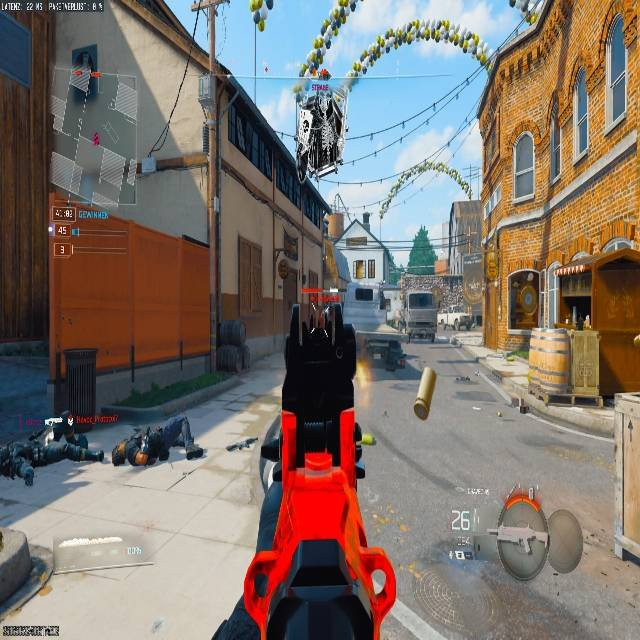head: (129, 444, 151, 467), (284, 235, 298, 249)
player: (0, 418, 100, 485)
